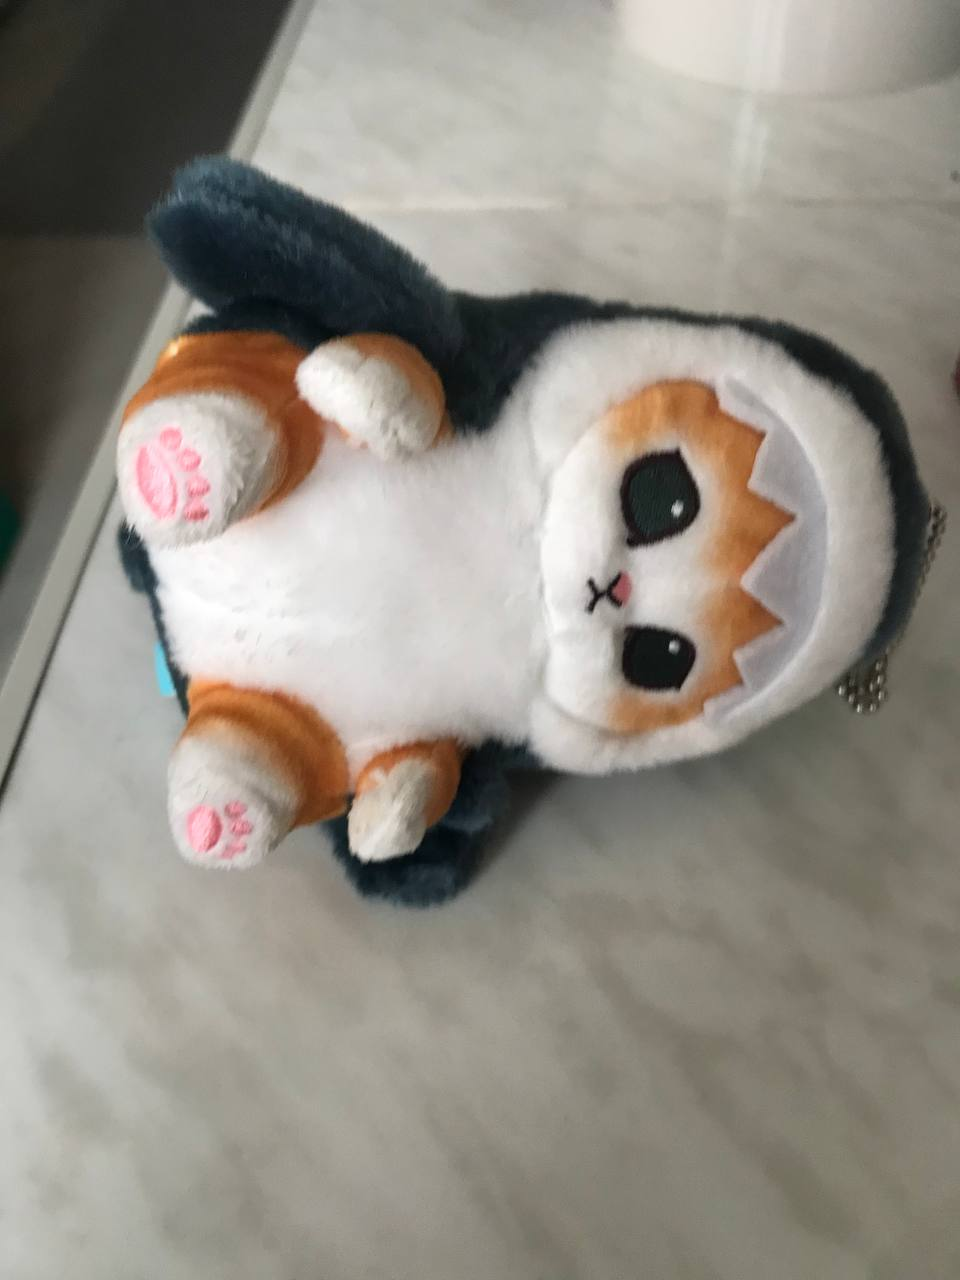cat_shark: (115, 148, 937, 911)
